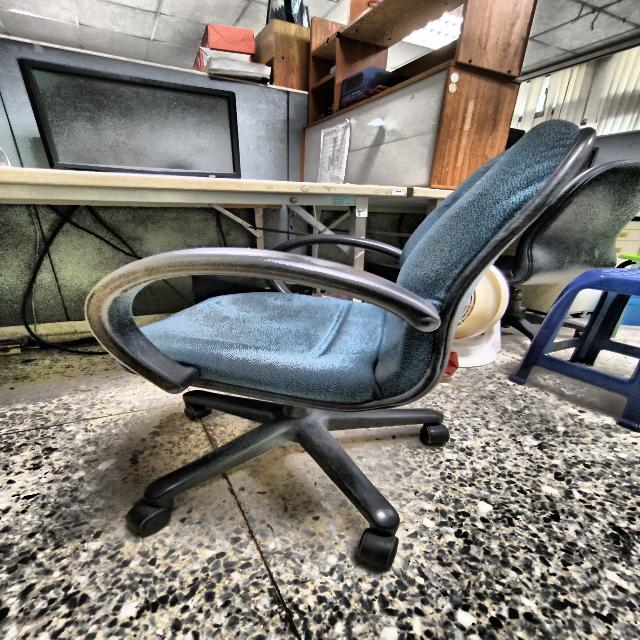cadeira: (75, 108, 603, 575), (501, 249, 640, 437)
